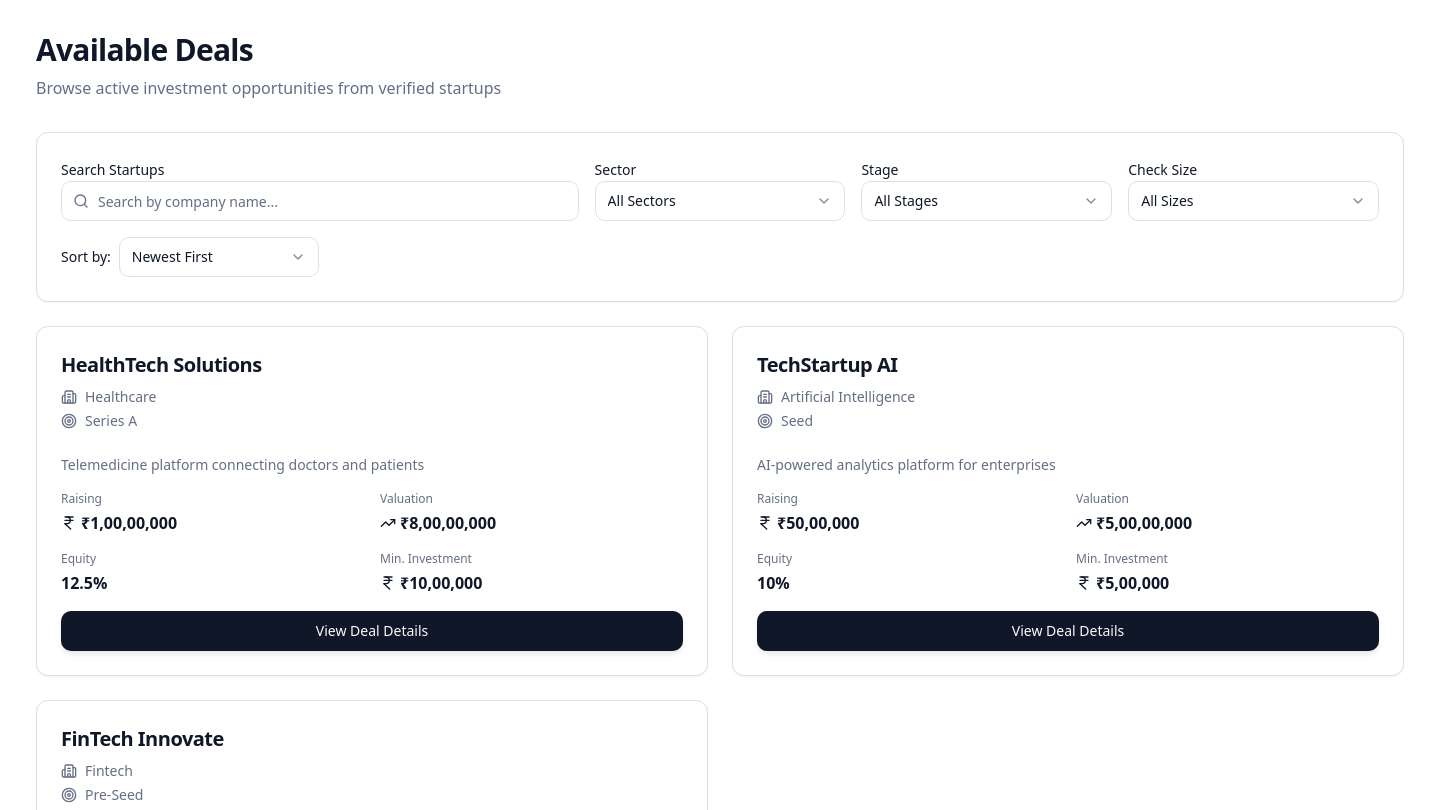
US-INVESTOR-003: Browse Available Deals › Filter by Sector › should filter deals by selected sector
Expected: the text "TechStartup AI" is shown, left=757, top=351, right=898, bottom=378
// Use trigger ID to find the correct select
Click the dropdown labelled "All Sectors".
click(720, 201)  # box left=595, top=181, right=845, bottom=221
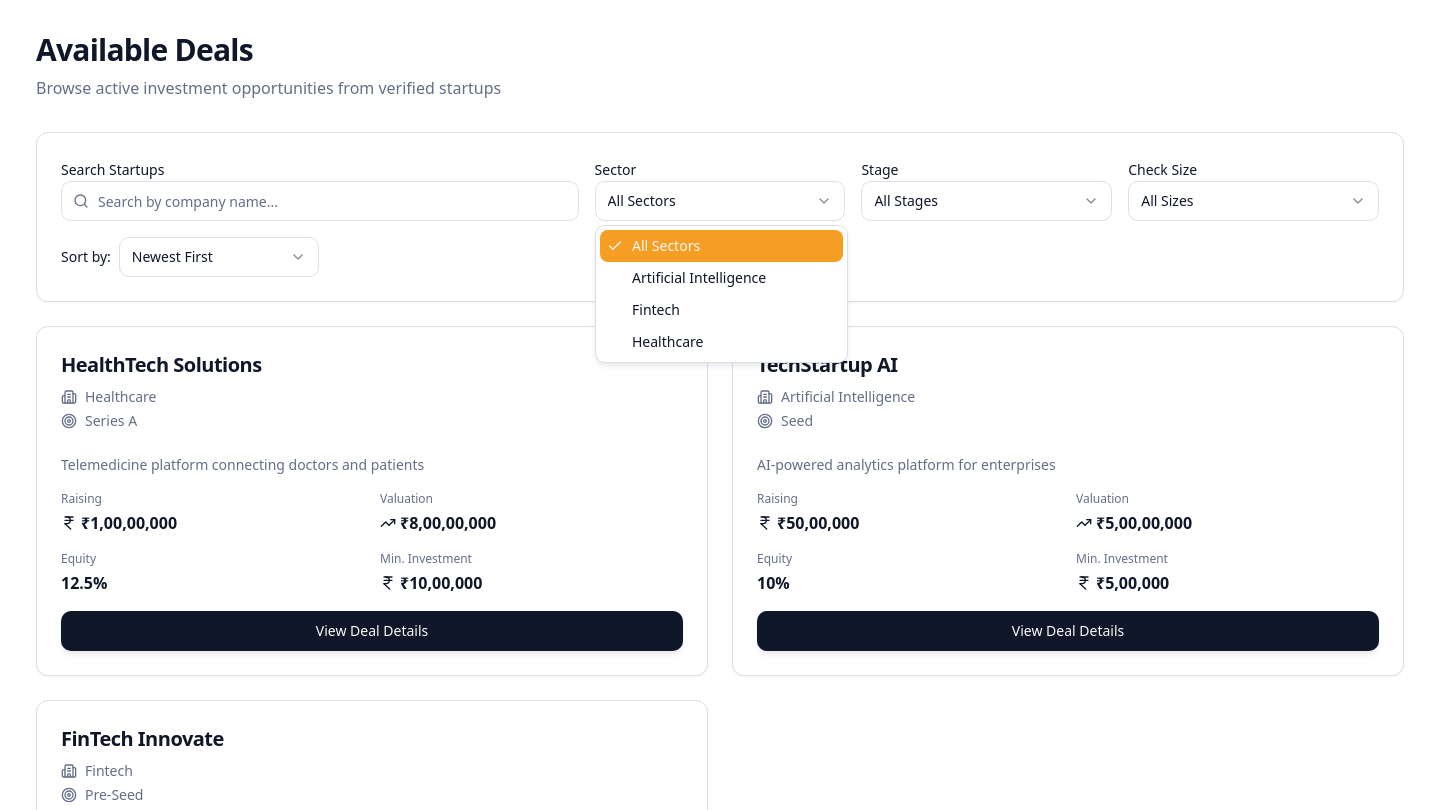
Click the option "Healthcare".
click(668, 342)  # box left=632, top=332, right=703, bottom=351
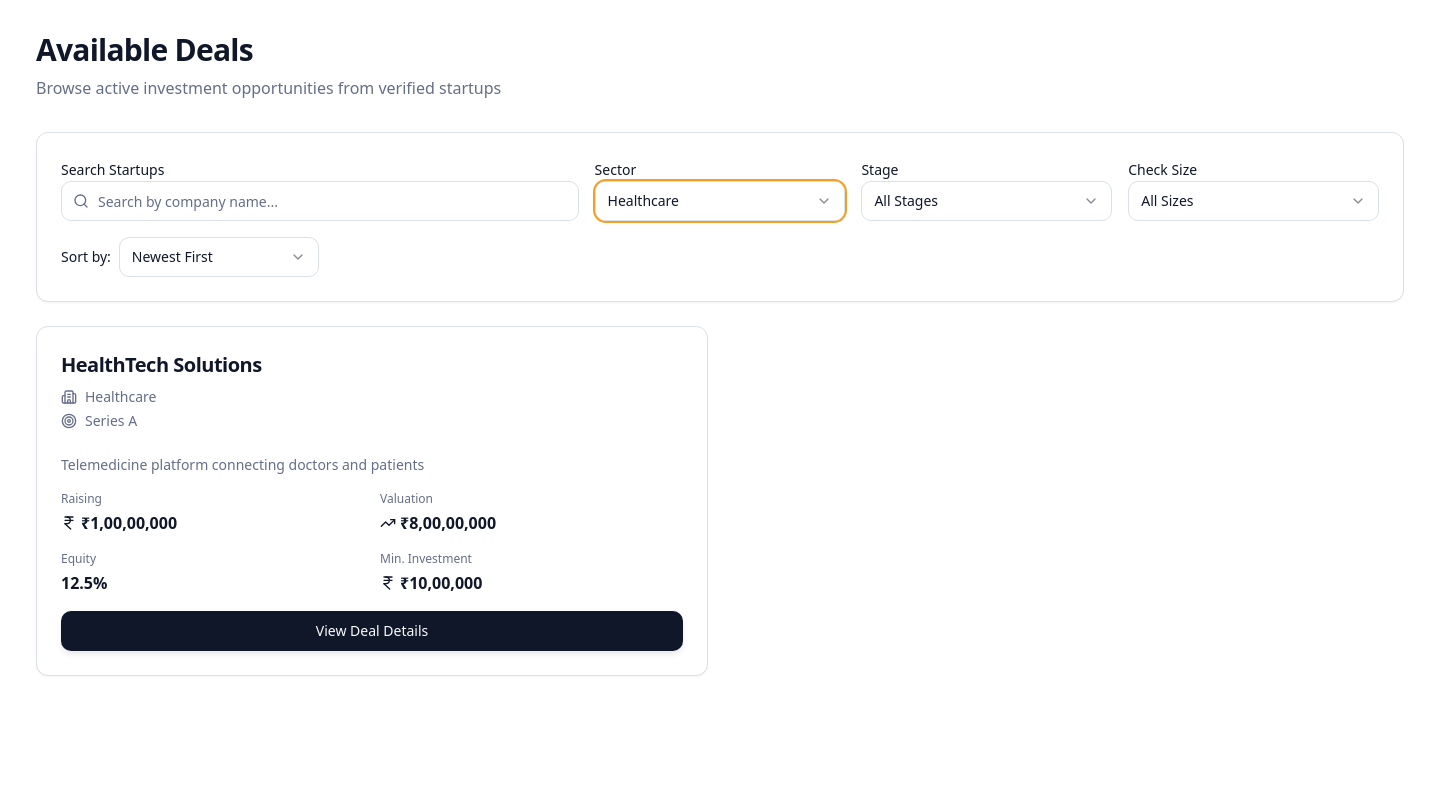
Expected: the text "HealthTech Solutions" is shown, left=61, top=351, right=262, bottom=378
Expected: the text "TechStartup AI" is gone
